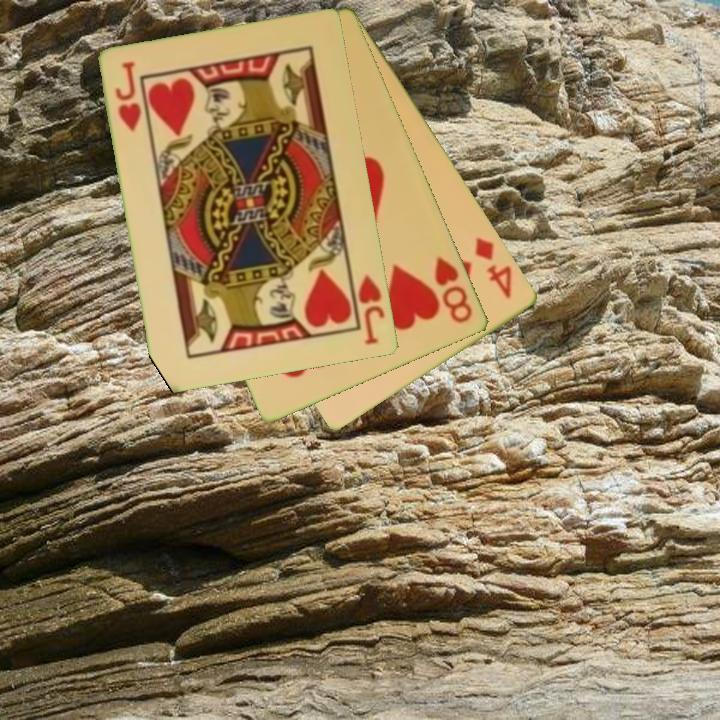4d: (472, 234, 516, 301)
8h: (431, 253, 476, 327)
Jh: (347, 266, 388, 348), (112, 58, 145, 135)
